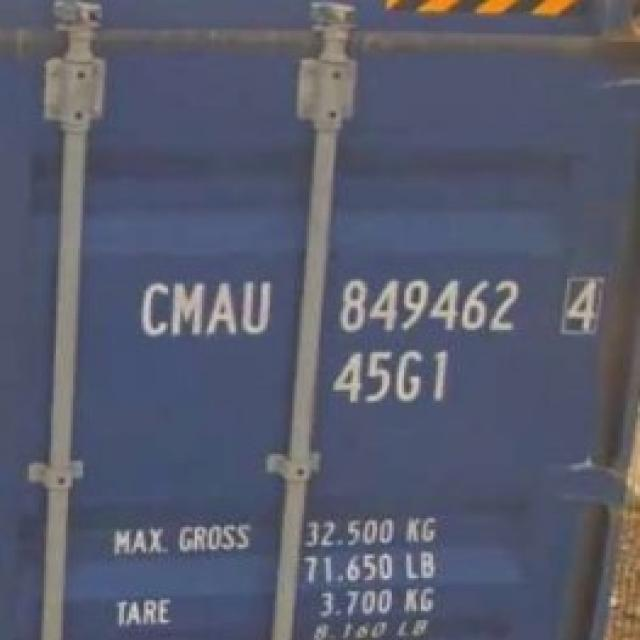dv: (551, 267, 604, 340)
owner: (129, 269, 281, 344)
serial: (328, 271, 528, 336)
size: (322, 346, 456, 406)
